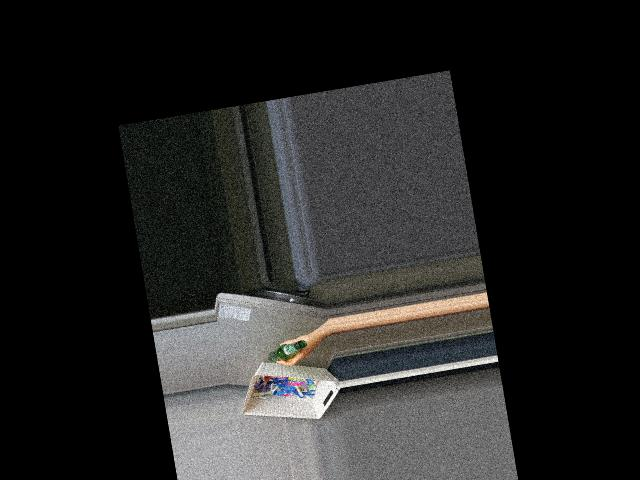beer: (266, 339, 309, 364)
